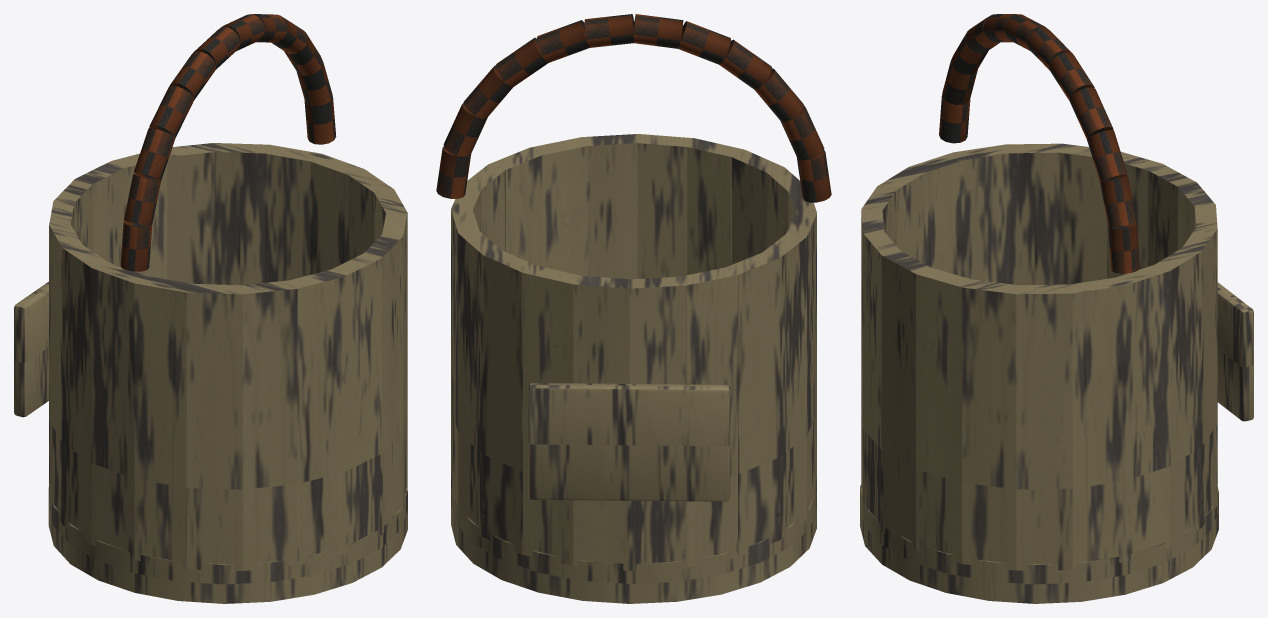
File: SM_PaintCan_Open_573f613a87.fbx
The picture shows the model from 3 angles, left to right: view 1: azimuth 30°, elevation 25°; view 2: azimuth 150°, elevation 25°; view 3: azimuth 270°, elevation 25°; orthographic projection.
Visible parts, largest first — view 1: SM_PaintCan_Open_573f613a87; view 2: SM_PaintCan_Open_573f613a87; view 3: SM_PaintCan_Open_573f613a87.
Part boxes in pixels (box(x1,y1,x2,y2)): SM_PaintCan_Open_573f613a87: box(14, 14, 407, 603); SM_PaintCan_Open_573f613a87: box(436, 14, 831, 603); SM_PaintCan_Open_573f613a87: box(860, 14, 1253, 603).
Size of what is drawn, in the model's own units: 19.97 by 21.93 by 30.79.
2 materials, 2 textured.
